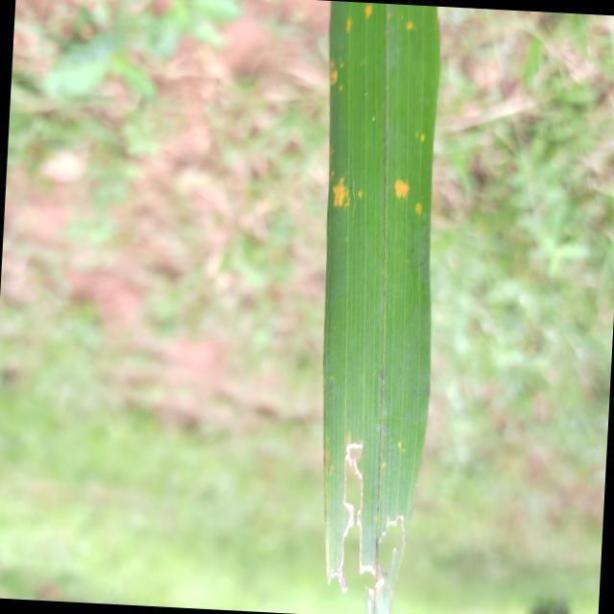Kalium: (325, 0, 433, 614)
